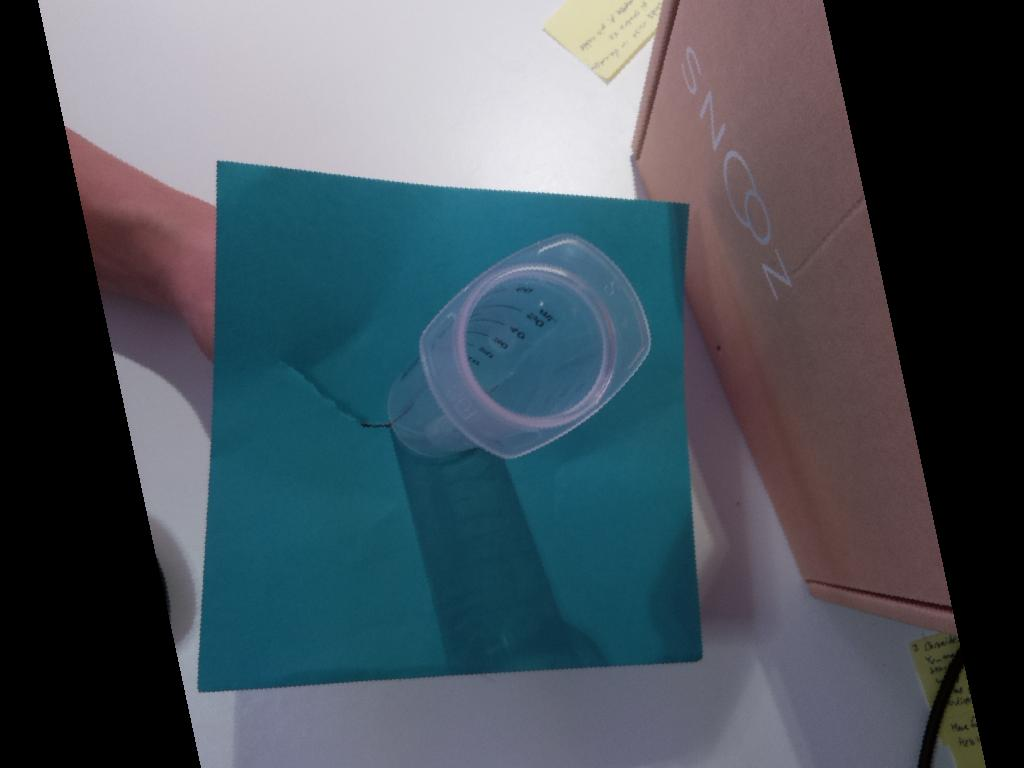clean: (416, 232, 655, 462)
